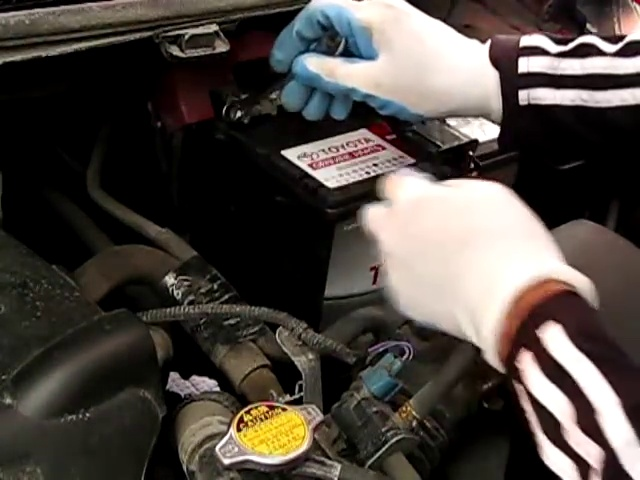battery: (162, 75, 482, 190)
